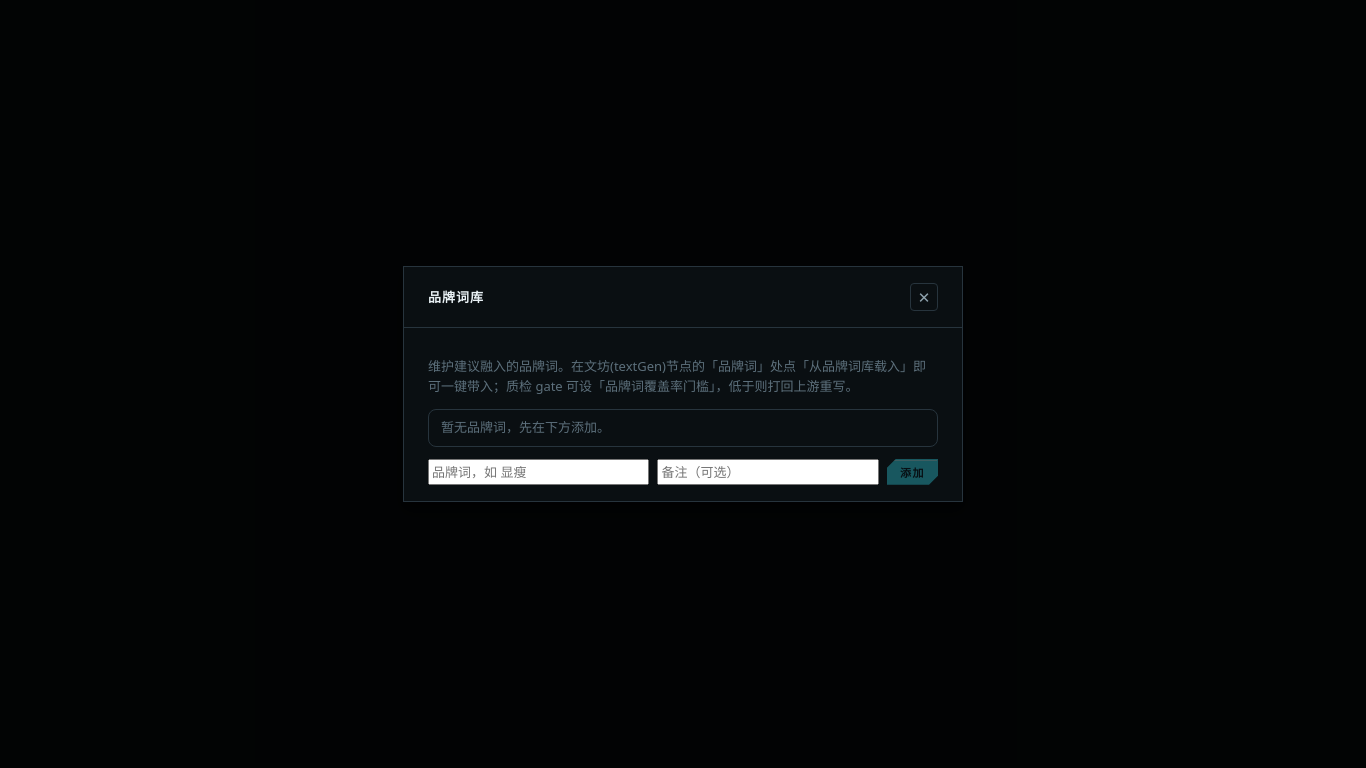
Test: BrandTermsModal › 添加品牌词 › 添加失败时显示错误信息
Type "重复品牌词" into the field with placeholder "品牌词，如 显瘦" at (539, 472), box [428,459,650,485]
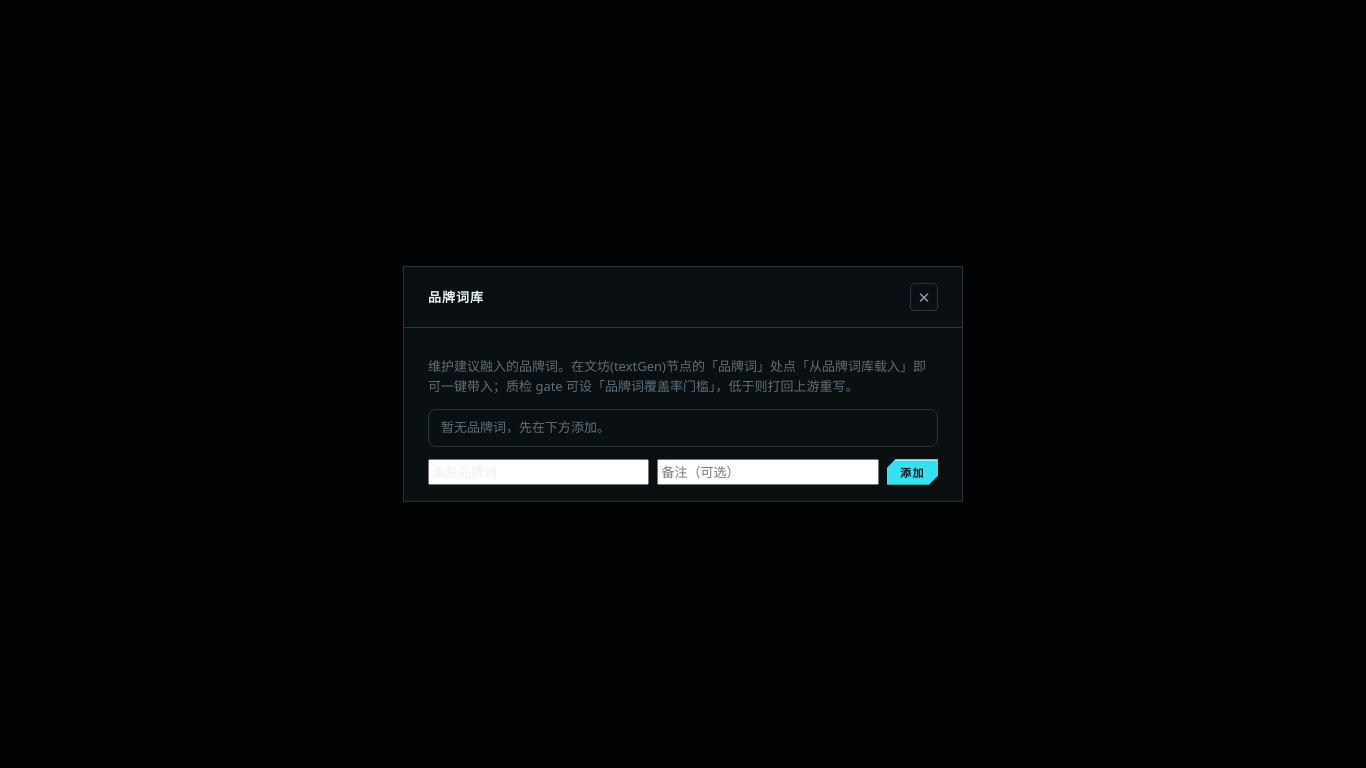
Click the button "添加" at (912, 472), box [887,459,938,485]
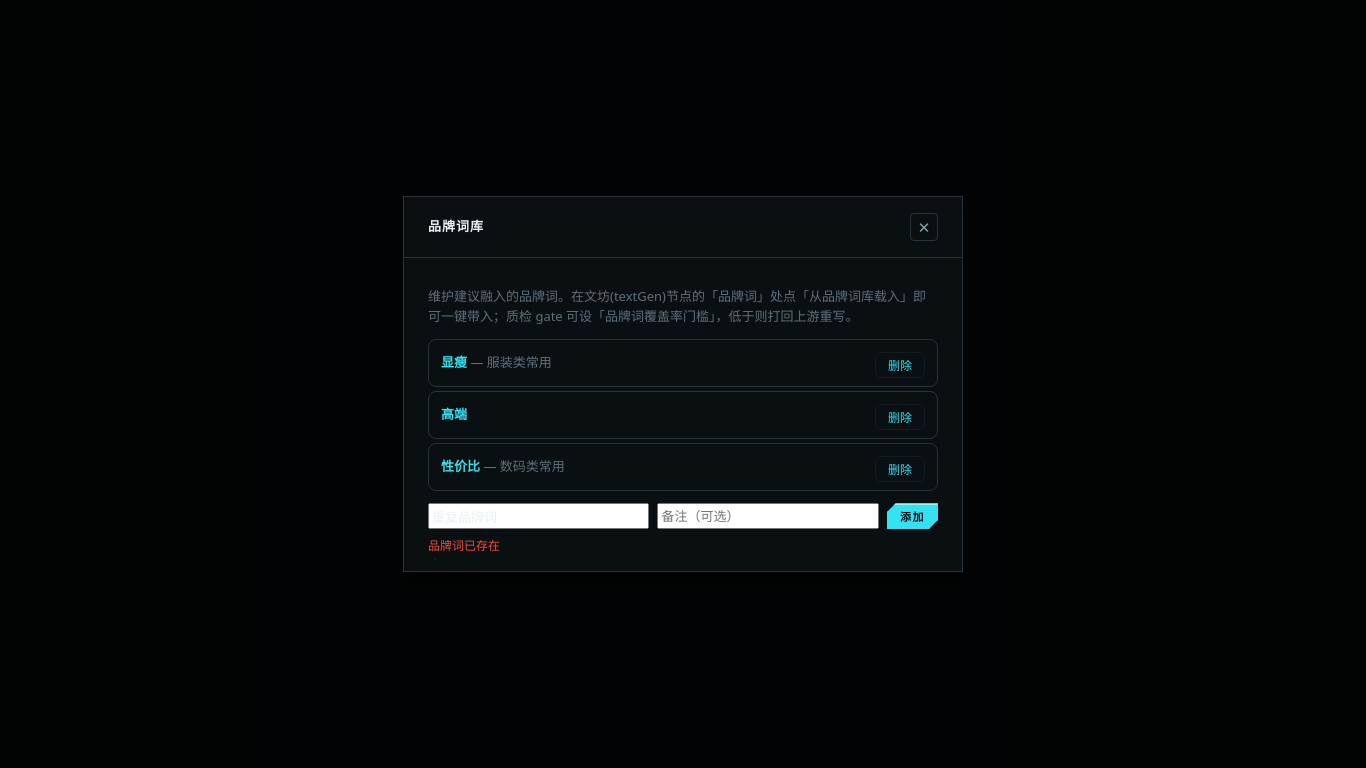
Expected: the text "品牌词已存在" is shown, [428,537,500,554]
